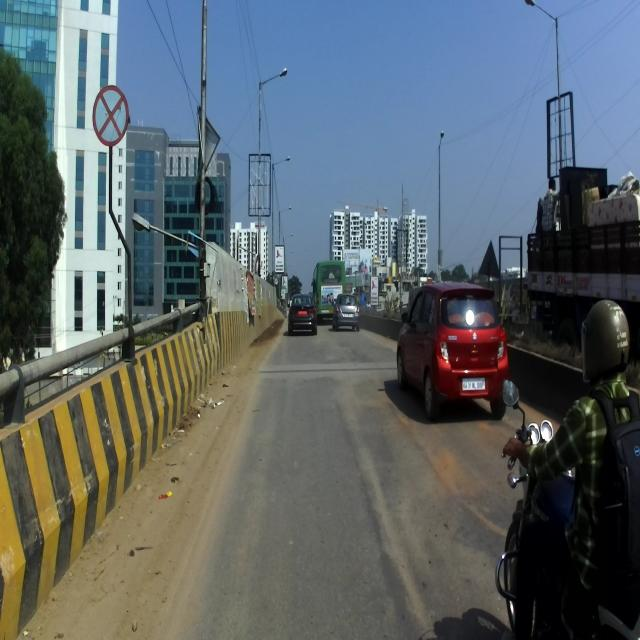car: (396, 280, 508, 420), (310, 262, 354, 315), (287, 292, 318, 335), (331, 293, 360, 331)
motorcycle: (494, 378, 640, 639)
